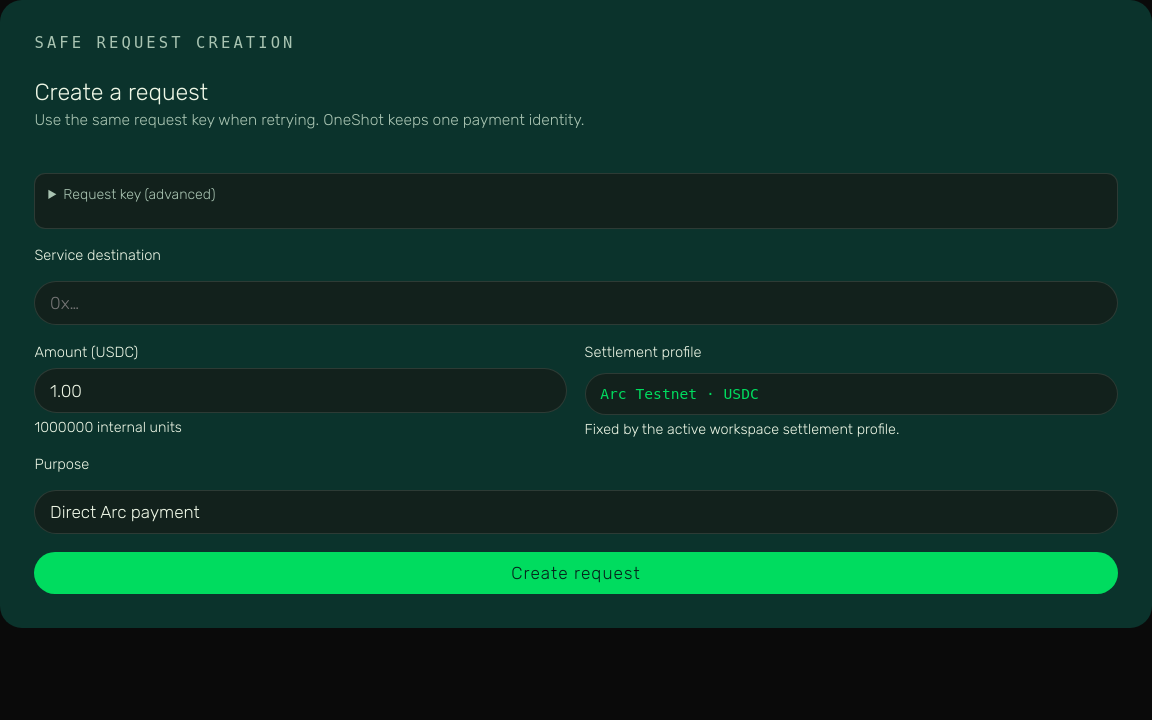
Scenario: IntentForm › preserves the stable ID and explains an identical replay
Type "0x1111111111111111111111111111111111111111" into the field labelled "Service destination". click: x=576, y=303
box: [34,281,1118,325]
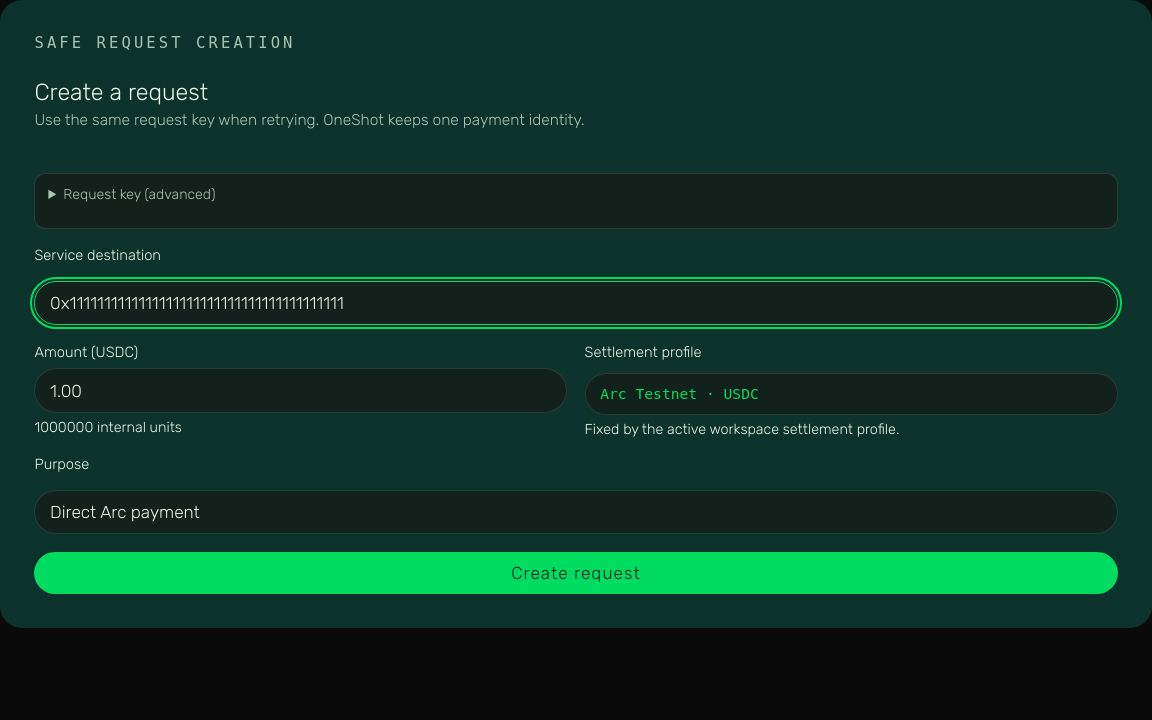
Click the button "Create request". click: x=576, y=573
box: [34,552,1118,594]
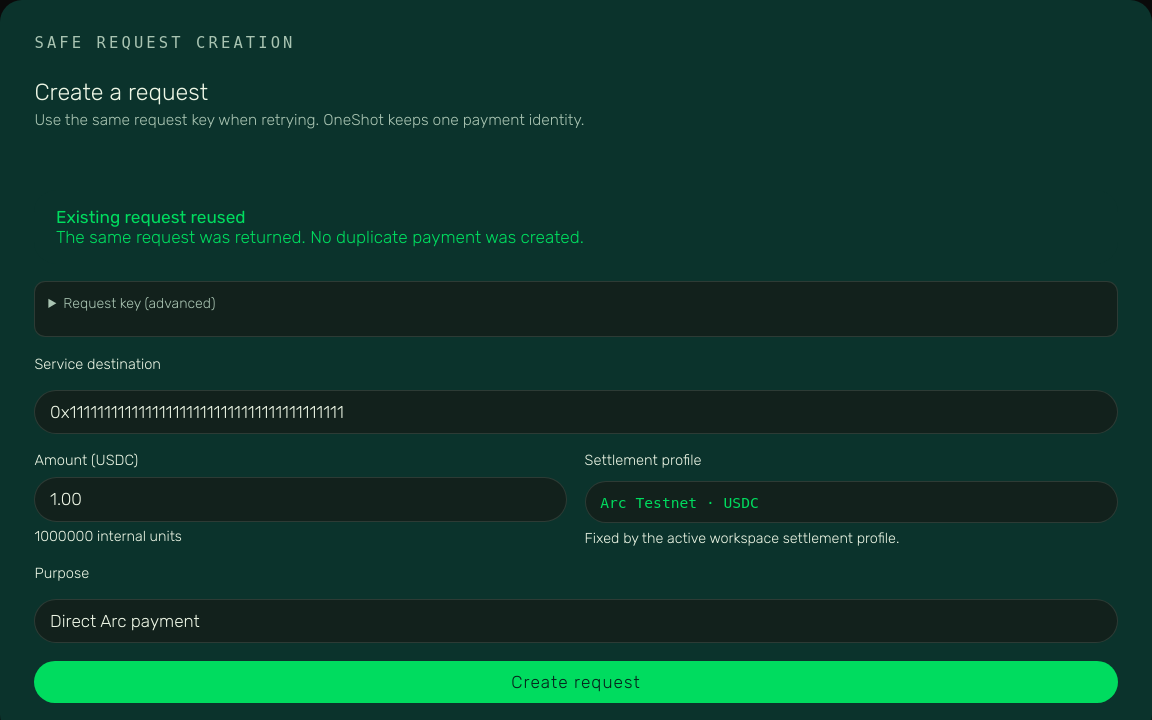
expect the text "Existing request reused" is shown: met, box [56,207,246,227]
